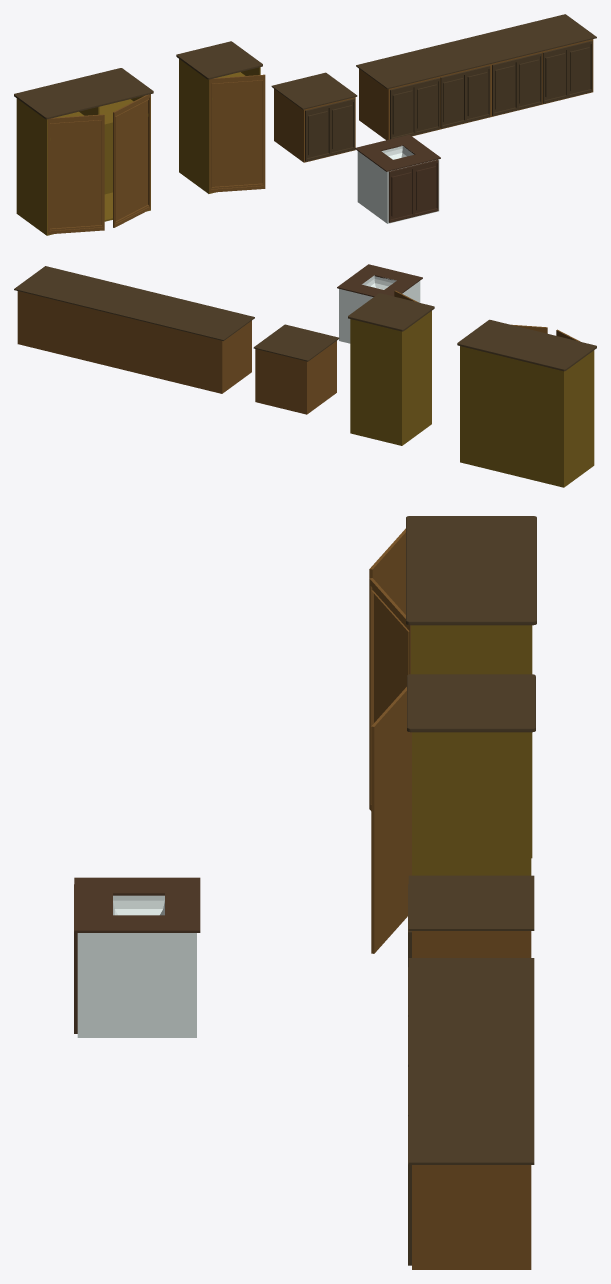
The model's file is cr sink.fbx.
3 views of the same model, one above another, from view 1: azimuth 30°, elevation 25°; view 2: azimuth 150°, elevation 25°; view 3: azimuth 270°, elevation 25° (orthographic). The views are drawn at different scales.
Visible parts, largest first — view 1: Cube.013, Cube.002, Cube.012, Cube.007, Cube.008, Cube.015, Cube.001, Cube.011, Cube.004, Cube.016, Cube, Cube.003 (+2 smaller); view 2: Cube.013, Cube.002, Cube.012, Cube, Cube.005, Cube.009, Cube.006, Cube.010, Cube.003, Cube.014, Cube.016; view 3: Cube.002, Cube.013, Cube.012, Cube.016, Cube.009, Cube.003, Cube.014, Cube.
Boxes of the visible parts, <box> form: Cube.013: <box>14,68,153,235</box>; Cube.002: <box>176,41,265,193</box>; Cube.012: <box>356,14,596,89</box>; Cube.007: <box>440,65,490,128</box>; Cube.008: <box>542,40,592,103</box>; Cube.015: <box>388,159,438,222</box>; Cube.001: <box>305,98,354,161</box>; Cube.011: <box>492,53,541,115</box>; Cube.004: <box>390,78,439,139</box>; Cube.016: <box>357,145,439,223</box>; Cube: <box>274,89,355,162</box>; Cube.003: <box>271,72,357,109</box>; Cube.013: <box>457,319,596,487</box>; Cube.002: <box>348,290,434,445</box>; Cube.012: <box>14,266,254,340</box>; Cube: <box>255,341,336,414</box>; Cube.005: <box>170,320,251,393</box>; Cube.009: <box>17,291,69,356</box>; Cube.006: <box>120,316,171,381</box>; Cube.010: <box>68,303,119,368</box>; Cube.003: <box>253,324,339,361</box>; Cube.014: <box>337,264,422,296</box>; Cube.016: <box>339,275,420,343</box>; Cube.002: <box>371,674,535,953</box>; Cube.013: <box>369,516,536,858</box>; Cube.012: <box>408,958,534,1164</box>; Cube.016: <box>77,895,196,1037</box>; Cube.009: <box>412,1165,531,1269</box>; Cube.003: <box>408,875,534,930</box>; Cube.014: <box>74,877,200,932</box>; Cube: <box>412,931,531,957</box>.
Bounding box in the file's own units: 2135 × 441 × 776.
